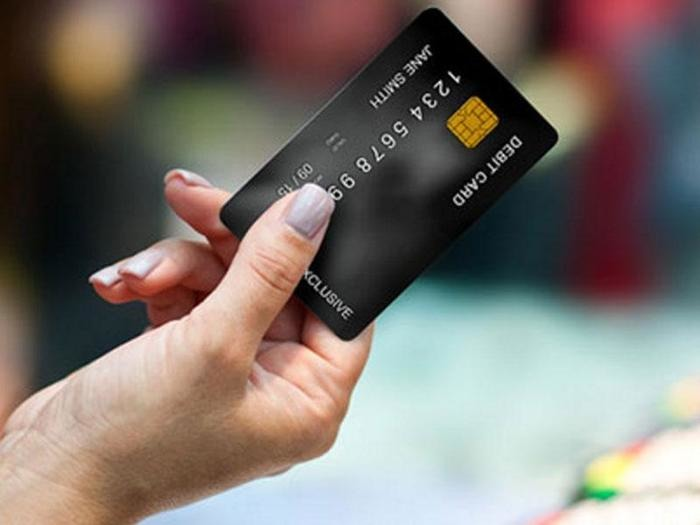tarjeta: (217, 5, 562, 343)
